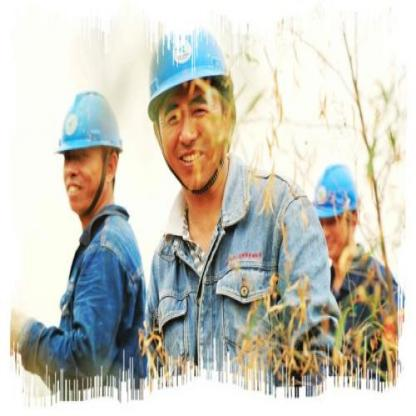sem_capacete: (146, 23, 235, 199), (55, 87, 125, 214), (310, 159, 362, 262)
sem_colete_refletivo: (150, 172, 314, 379), (58, 206, 150, 386), (329, 253, 406, 390)
